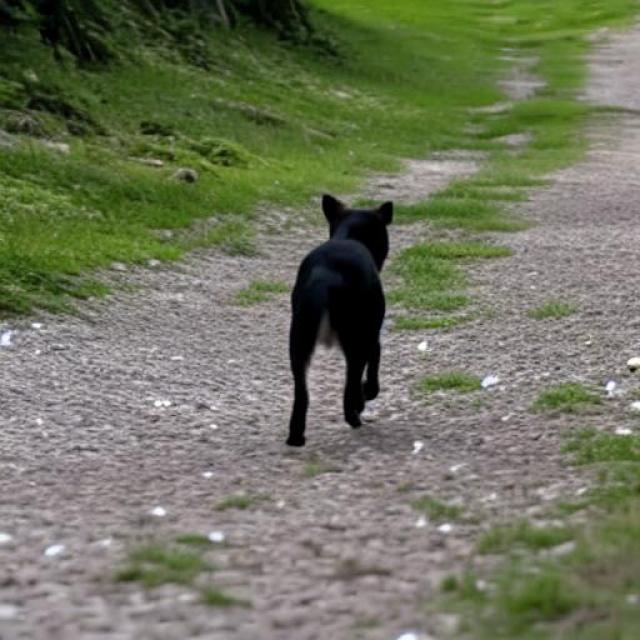Dog: (286, 193, 394, 448)
